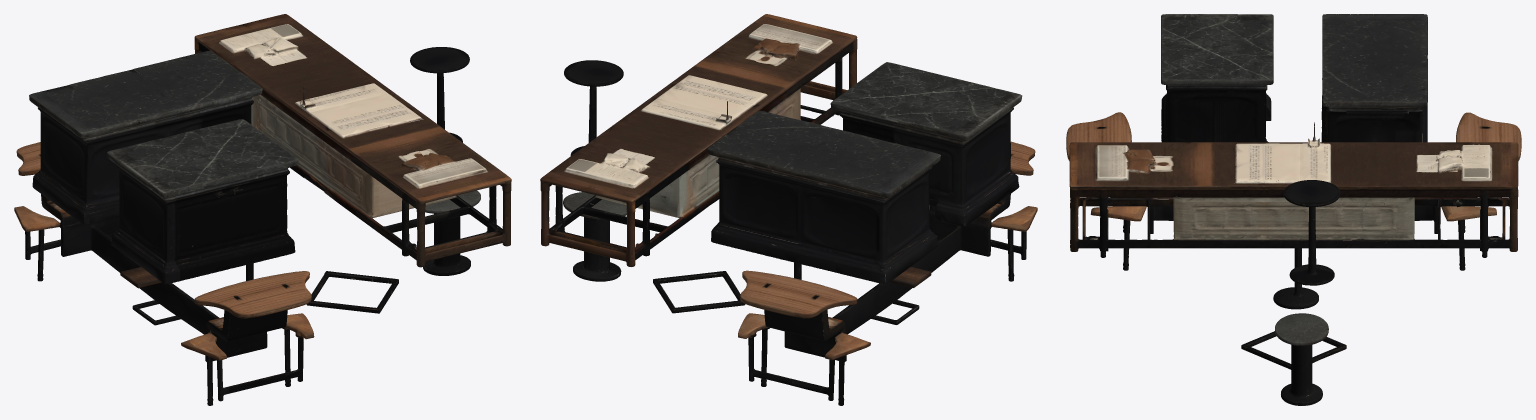
The model's file is clooection1.glb.
3 views of the same model, side by side, from view 1: azimuth 30°, elevation 25°; view 2: azimuth 150°, elevation 25°; view 3: azimuth 270°, elevation 25° (orthographic).
Parts seen in each view (by area): view 1: Mesh1.0; view 2: Mesh1.0; view 3: Mesh1.0.
Boxes of the visible parts, <box> form: Mesh1.0: <box>14,14,511,405</box>; Mesh1.0: <box>540,14,1037,405</box>; Mesh1.0: <box>1066,14,1521,405</box>.
Size of the model in its own units: 1.84 by 0.9709 by 1.9.
1 material, 1 textured.
